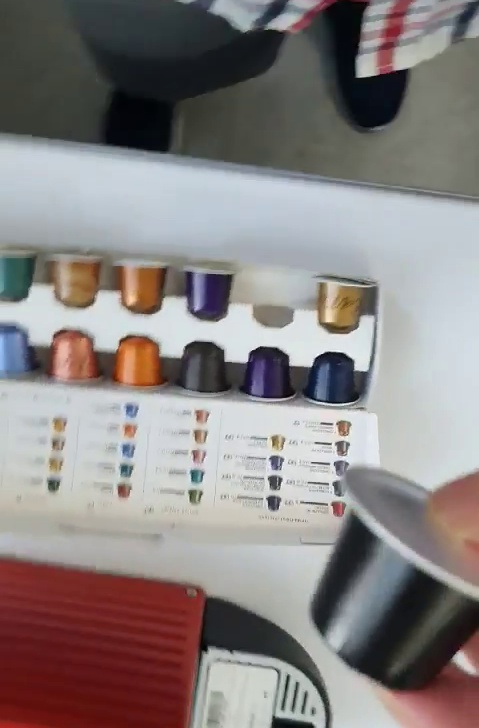capsule_10: (307, 455, 479, 694)
